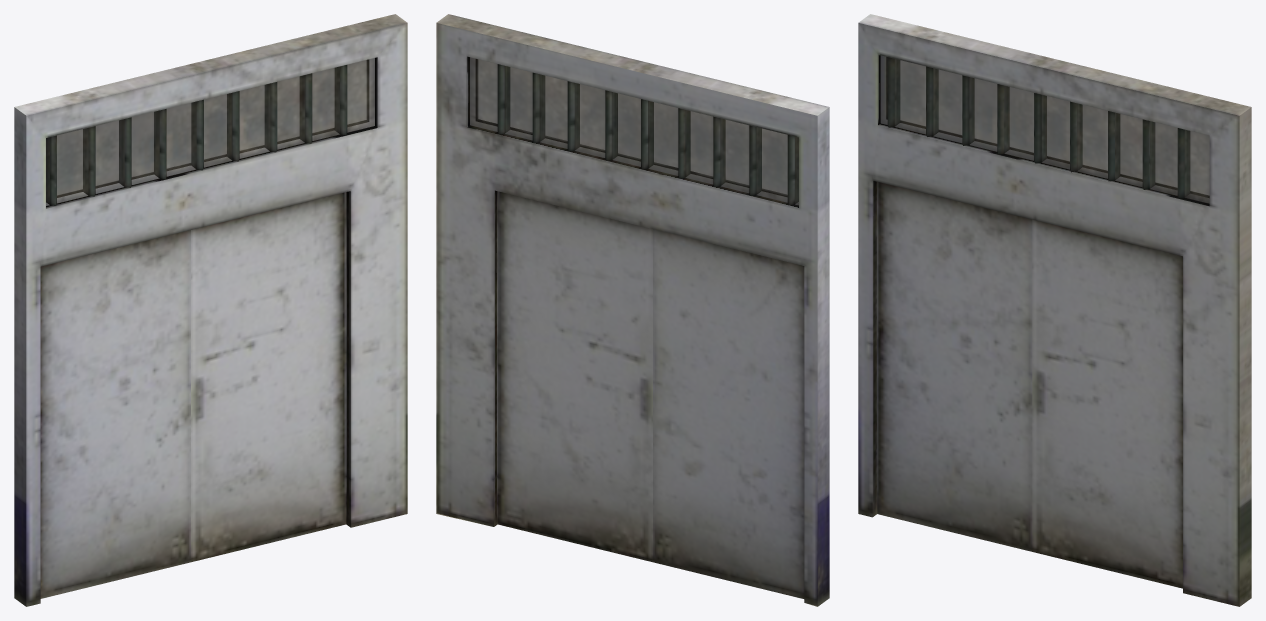
File: MetalDoor_Interactive.FBX
The picture shows the model from 3 angles, left to right: view 1: azimuth 30°, elevation 25°; view 2: azimuth 150°, elevation 25°; view 3: azimuth 330°, elevation 25°; orthographic projection.
Parts seen in each view (by area): view 1: MetalDoor_Interactive, R_Door, L_Door; view 2: MetalDoor_Interactive, R_Door, L_Door; view 3: MetalDoor_Interactive, L_Door, R_Door.
Boxes of the visible parts, x1,y1,x2,y2 form: MetalDoor_Interactive: (14,14,407,606); R_Door: (191,192,346,562); L_Door: (40,230,190,598); MetalDoor_Interactive: (436,14,829,606); R_Door: (497,191,652,562); L_Door: (653,229,804,598); MetalDoor_Interactive: (858,14,1251,606); L_Door: (877,182,1032,551); R_Door: (1032,219,1182,588).
Size of the model in its own units: 281 by 345 by 15.32.
